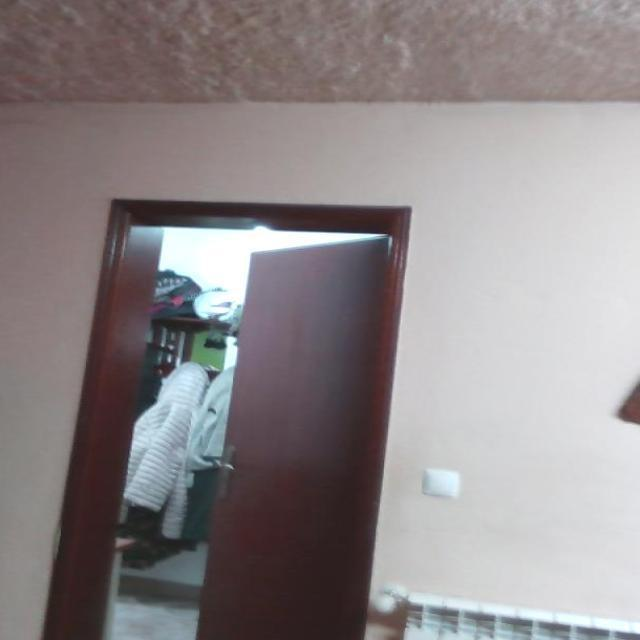door: (185, 211, 397, 640)
